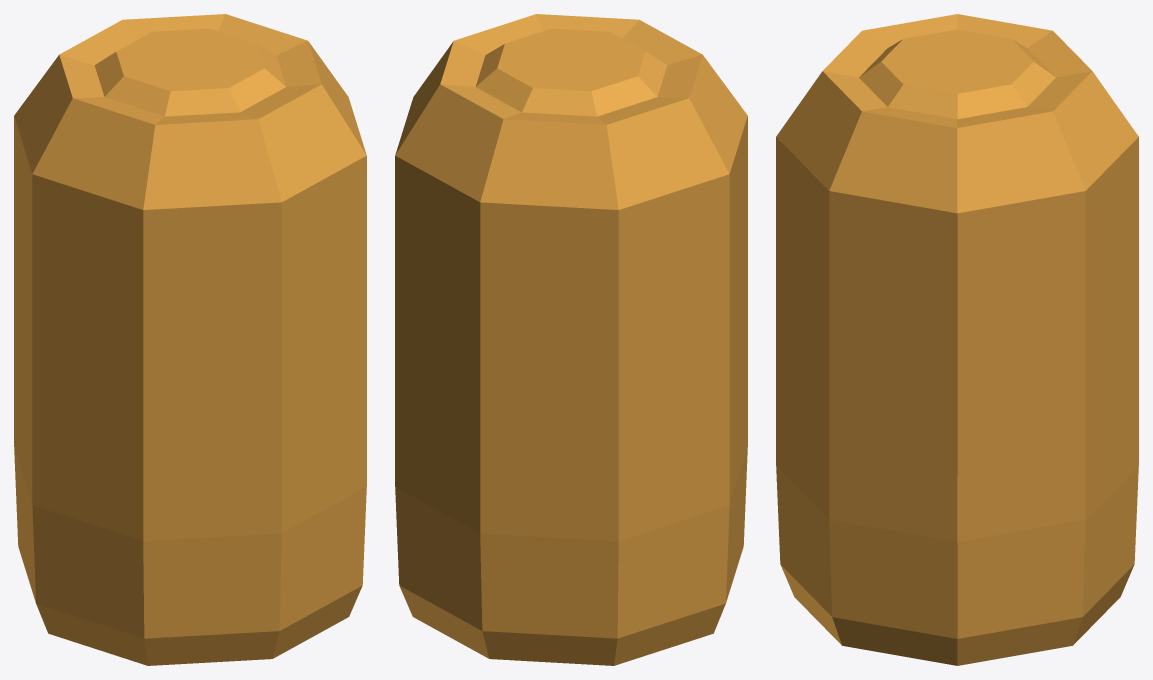
The model's file is scifi-scifi-resource-canister.glb.
3 renders of one model, left to right at view 1: azimuth 30°, elevation 25°; view 2: azimuth 150°, elevation 25°; view 3: azimuth 270°, elevation 25°, orthographic.
Parts seen in each view (by area): view 1: scifi-resource-canister; view 2: scifi-resource-canister; view 3: scifi-resource-canister.
Part boxes in pixels (x1,y1,x2,y2): scifi-resource-canister: [14, 14, 366, 665]; scifi-resource-canister: [395, 14, 747, 665]; scifi-resource-canister: [776, 14, 1138, 665].
Size of the model in its own units: 0.5 by 0.8144 by 0.5.
